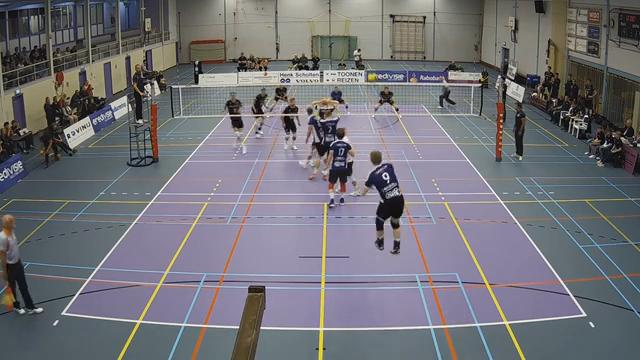Player: (349, 141, 409, 257), (326, 128, 354, 207), (300, 107, 326, 179), (225, 93, 246, 153), (282, 97, 300, 149), (374, 86, 400, 117), (252, 88, 267, 137), (320, 110, 339, 148), (311, 98, 338, 118), (268, 84, 287, 111), (347, 155, 359, 195), (330, 86, 348, 110)
ball: (365, 72, 377, 84)
